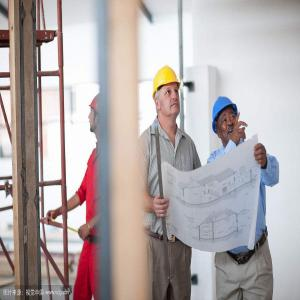blue: (211, 96, 241, 146)
red: (90, 92, 107, 139)
yellow: (151, 62, 185, 127)
